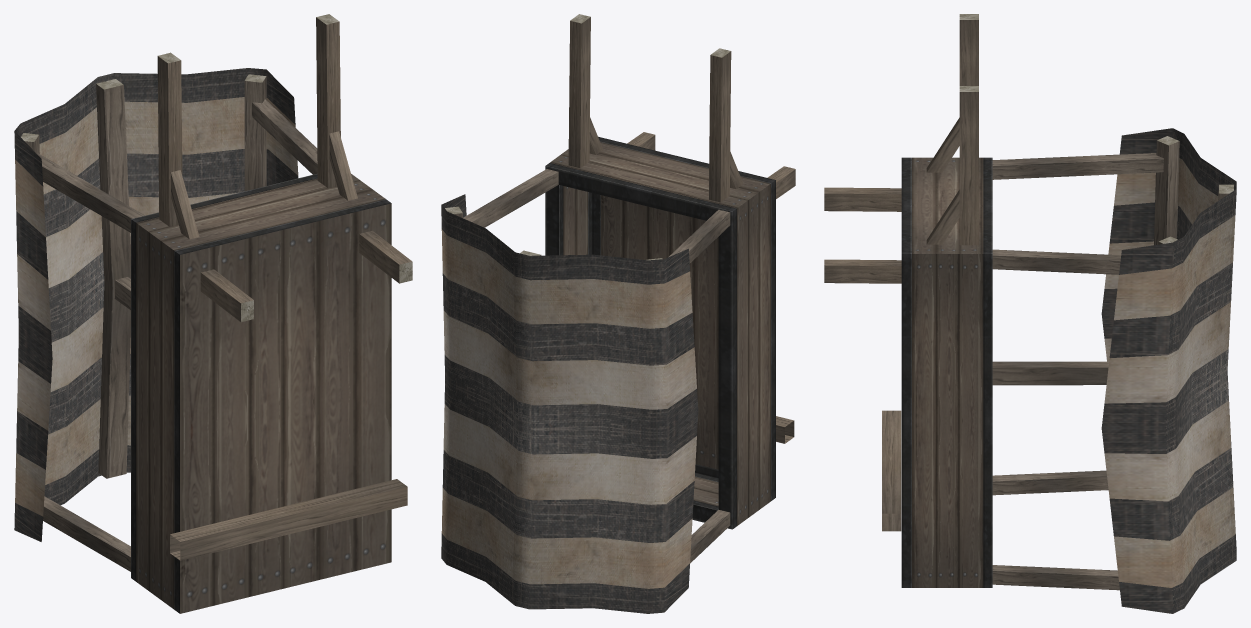
The model's file is Cart_Covered_A.fbx.
3 views of the same model, side by side, from view 1: azimuth 30°, elevation 25°; view 2: azimuth 150°, elevation 25°; view 3: azimuth 270°, elevation 25° (orthographic). The views are drawn at different scales.
Visible parts, largest first — view 1: Cart_Covered_A; view 2: Cart_Covered_A; view 3: Cart_Covered_A.
Boxes of the visible parts, bbox=[...] form: Cart_Covered_A: bbox=[14, 14, 412, 613]; Cart_Covered_A: bbox=[441, 14, 795, 613]; Cart_Covered_A: bbox=[824, 14, 1236, 613].
Size of the model in its own units: 2.78 by 5.69 by 4.23.
